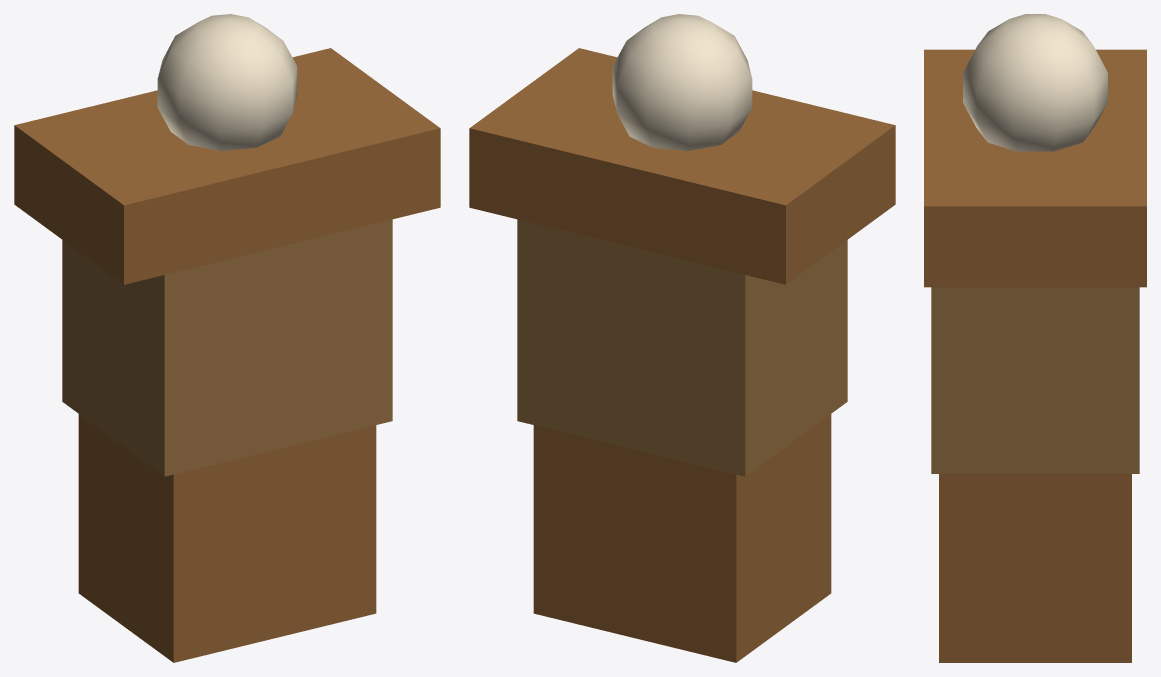
File: ti_xiu.glb
The picture shows the model from 3 angles, left to right: view 1: azimuth 30°, elevation 25°; view 2: azimuth 150°, elevation 25°; view 3: azimuth 270°, elevation 25°; orthographic projection.
Visible parts, largest first — view 1: _MeshInstance3D_15, _MeshInstance3D_16, _MeshInstance3D_14, _MeshInstance3D_17; view 2: _MeshInstance3D_15, _MeshInstance3D_16, _MeshInstance3D_14, _MeshInstance3D_17; view 3: _MeshInstance3D_16, _MeshInstance3D_15, _MeshInstance3D_14, _MeshInstance3D_17.
Boxes of the visible parts, x1,y1,x2,y2 form: _MeshInstance3D_15: (62, 219, 392, 476); _MeshInstance3D_16: (14, 48, 440, 284); _MeshInstance3D_14: (78, 414, 376, 662); _MeshInstance3D_17: (157, 14, 297, 150); _MeshInstance3D_15: (517, 219, 847, 476); _MeshInstance3D_16: (469, 48, 895, 284); _MeshInstance3D_14: (533, 414, 831, 662); _MeshInstance3D_17: (612, 14, 752, 150); _MeshInstance3D_16: (924, 49, 1146, 287); _MeshInstance3D_15: (931, 287, 1139, 473); _MeshInstance3D_14: (939, 474, 1131, 662); _MeshInstance3D_17: (963, 14, 1107, 151).
Size of the model in its own units: 0.5 by 0.88 by 0.3.
